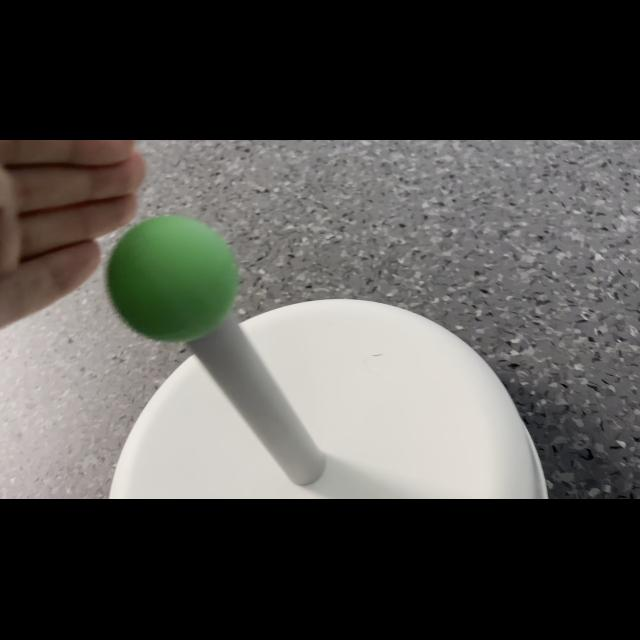objects: (102, 212, 244, 348)
